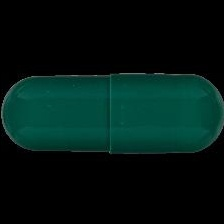50090-0672: (0, 0, 224, 224)
